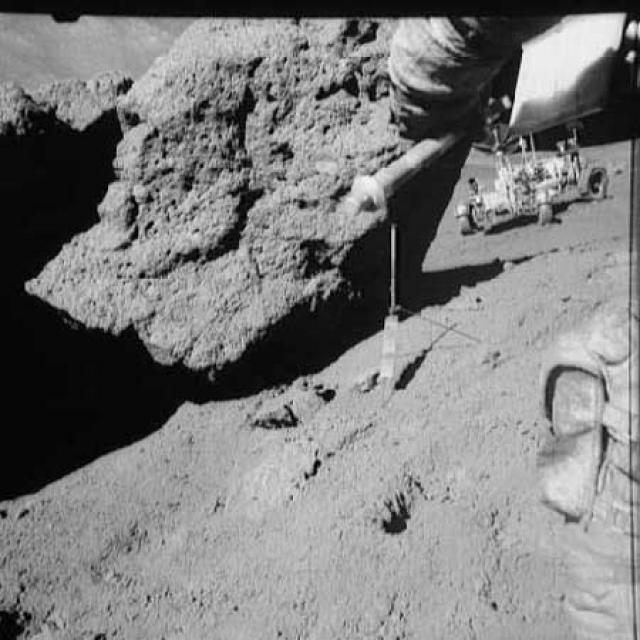artifact: (457, 2, 634, 248), (369, 218, 476, 396)
rock: (209, 441, 325, 518), (250, 375, 335, 433)
